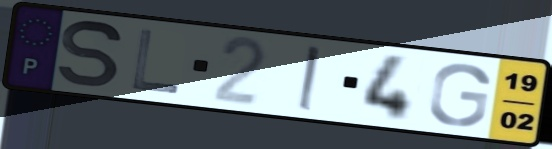2: (209, 35, 272, 109)
4: (358, 51, 420, 125)
G: (425, 61, 493, 129)
I: (295, 43, 323, 114)
L: (128, 27, 182, 97)
S: (55, 18, 126, 91)
